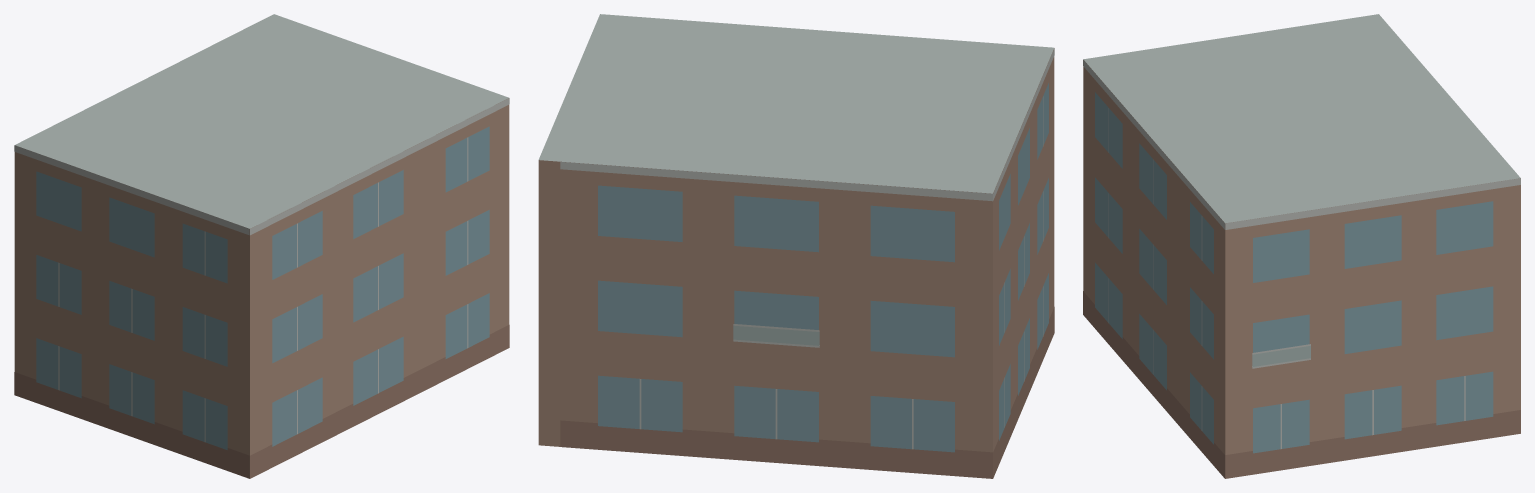
Rendered from survey-upis-32702956.glb.
3 renders of one model, left to right at view 1: azimuth 30°, elevation 25°; view 2: azimuth 150°, elevation 25°; view 3: azimuth 270°, elevation 25°, orthographic. The views are drawn at different scales.
Parts seen in each view (by area): view 1: survey-upis-32702956.tmp; view 2: survey-upis-32702956.tmp; view 3: survey-upis-32702956.tmp.
Part boxes in pixels (bbox=[...]): survey-upis-32702956.tmp: bbox=[14, 14, 509, 478]; survey-upis-32702956.tmp: bbox=[538, 14, 1054, 478]; survey-upis-32702956.tmp: bbox=[1083, 14, 1520, 478].
Bounding box in the file's own units: 16.08 × 9.15 × 14.21.
